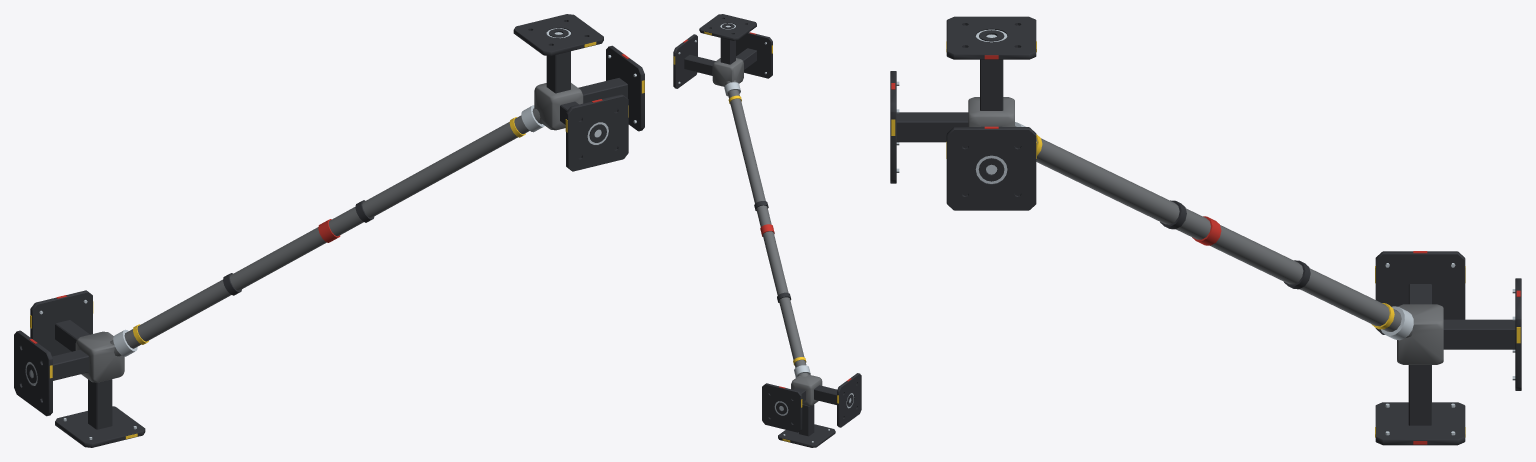
Rendered from R4C_ROD_DIAG_3D.glb.
3 views of the same model, side by side, from view 1: azimuth 30°, elevation 25°; view 2: azimuth 150°, elevation 25°; view 3: azimuth 270°, elevation 25° (orthographic). The views are drawn at different scales.
Visible parts, largest first — view 1: R4C_ROD_DIAG_3D; view 2: R4C_ROD_DIAG_3D; view 3: R4C_ROD_DIAG_3D.
Part boxes in pixels (x1=…): R4C_ROD_DIAG_3D: x1=14, y1=14, x2=644, y2=447; R4C_ROD_DIAG_3D: x1=673, y1=14, x2=861, y2=447; R4C_ROD_DIAG_3D: x1=890, y1=16, x2=1521, y2=445.
Bounding box in the file's own units: 1.62 × 1.62 × 1.62.
